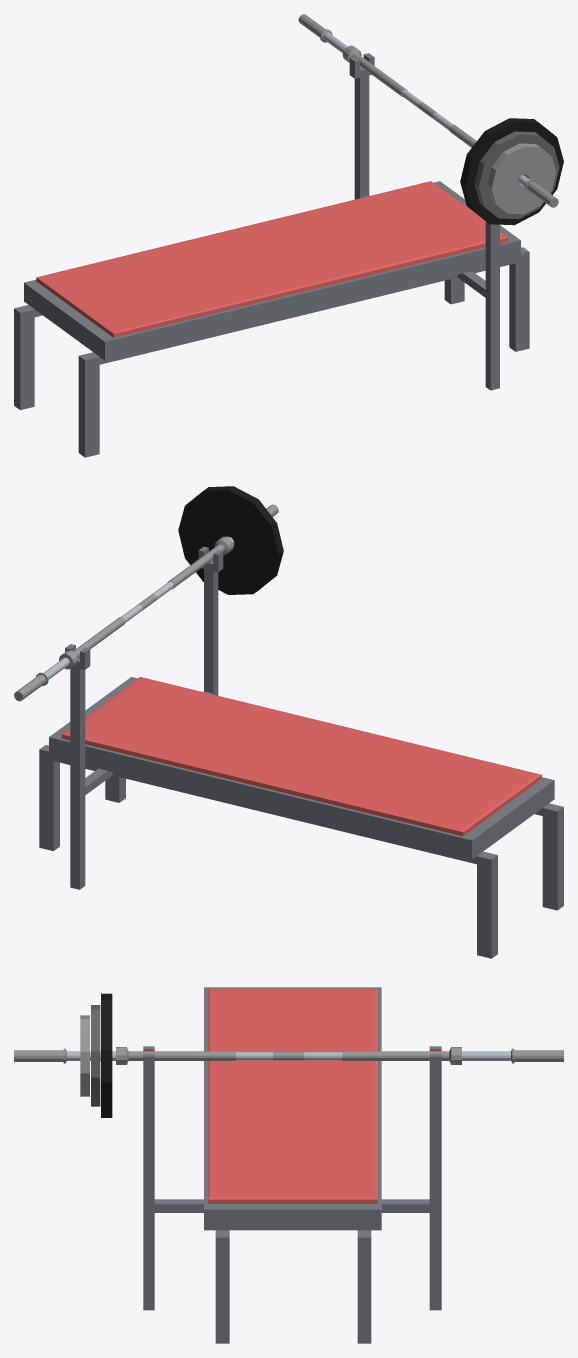
The model's file is BarbellSet.fbx.
The picture shows the model from 3 angles, top to bottom: view 1: azimuth 30°, elevation 25°; view 2: azimuth 150°, elevation 25°; view 3: azimuth 270°, elevation 25°; orthographic projection. The views are drawn at different scales.
Parts seen in each view (by area): view 1: BarebellBench, Weight_Small, Weight_Large, Barbell, Weight_Medium; view 2: BarebellBench, Weight_Large, Barbell; view 3: BarebellBench, Barbell, Weight_Large, Weight_Medium, Weight_Small.
Boxes of the visible parts, x1,y1,x2,y2 form: BarebellBench: (14, 53, 529, 457); Weight_Small: (487, 143, 556, 214); Weight_Large: (460, 118, 563, 225); Barbell: (298, 14, 558, 207); Weight_Medium: (474, 131, 559, 219); BarebellBench: (39, 546, 563, 958); Weight_Large: (178, 486, 283, 594); Barbell: (14, 504, 278, 701); BarebellBench: (143, 987, 441, 1343); Barbell: (14, 1047, 563, 1064); Weight_Large: (101, 993, 112, 1117); Weight_Medium: (91, 1005, 100, 1106); Weight_Small: (80, 1015, 89, 1096).
Size of the model in its own units: 472 by 286 by 461.
